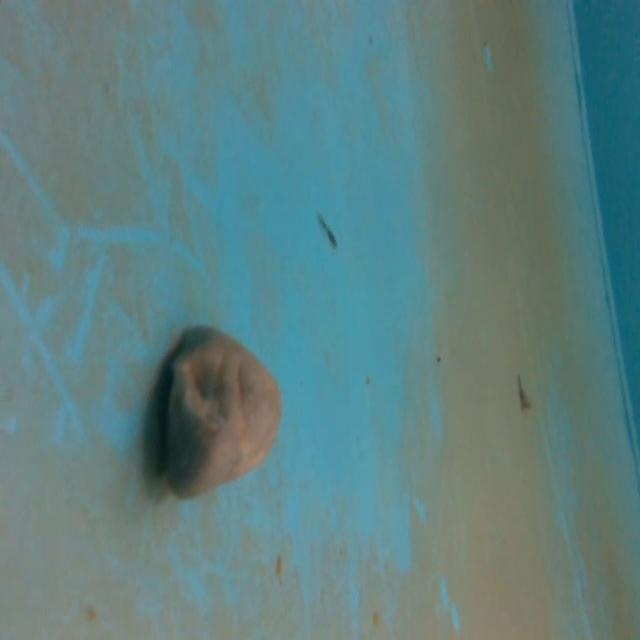rock: (149, 323, 287, 510)
